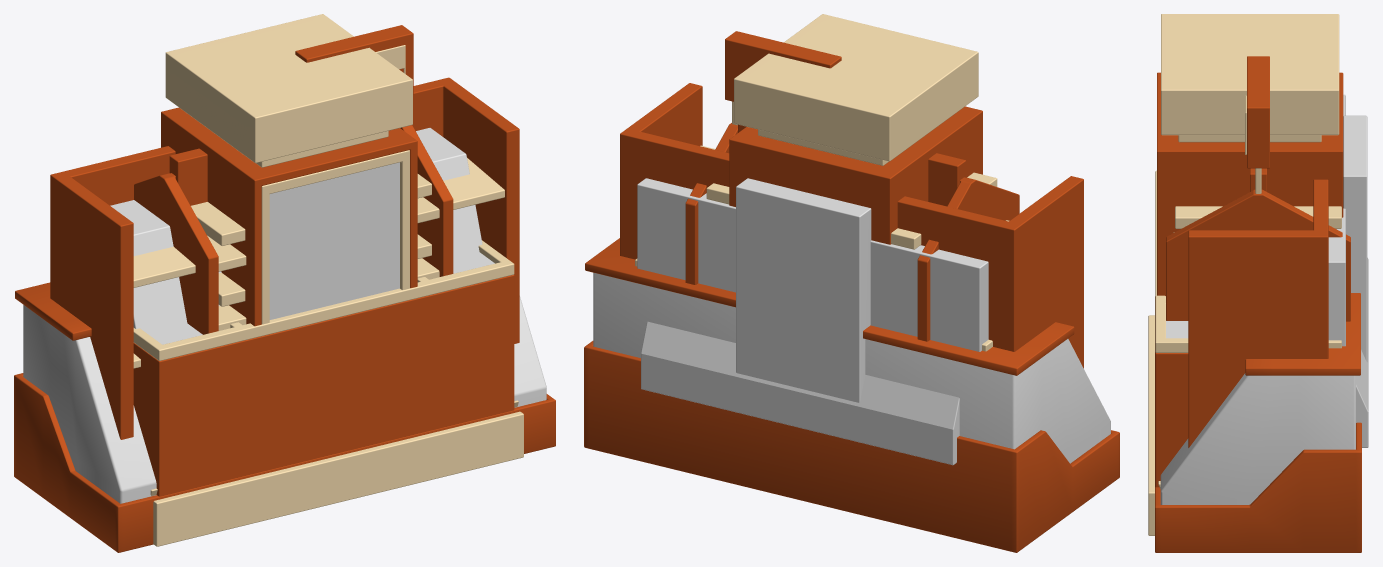
File: props.glb
3 renders of one model, left to right at view 1: azimuth 30°, elevation 25°; view 2: azimuth 150°, elevation 25°; view 3: azimuth 270°, elevation 25°, orthographic.
Parts seen in each view (by area): view 1: case_a, counter, shelf_step, prop11, counter_sm, cashier, case_b, fridge; view 2: prop11, counter, shelf_step, case_a, case_b, cashier, fridge, counter_sm; view 3: counter, prop11, shelf_step, cashier, case_a, case_b, fridge.
Part boxes in pixels (x1,y1,x2,y2): case_a: (133, 240, 523, 546); counter: (161, 14, 425, 478); shelf_step: (50, 77, 519, 439); prop11: (14, 282, 555, 552); counter_sm: (230, 277, 443, 526); cashier: (134, 25, 453, 334); case_b: (110, 128, 518, 495); fridge: (169, 148, 431, 306); prop11: (584, 238, 1119, 552); counter: (729, 14, 982, 402); shelf_step: (620, 83, 1083, 368); case_a: (635, 258, 992, 465); case_b: (637, 178, 988, 351); cashier: (685, 31, 1019, 341); fridge: (706, 124, 997, 249); counter_sm: (721, 366, 878, 428); counter: (1151, 14, 1367, 422); prop11: (1155, 293, 1361, 552); shelf_step: (1188, 179, 1328, 447); cashier: (1166, 56, 1350, 321); case_a: (1148, 170, 1368, 535); case_b: (1158, 94, 1345, 488); fridge: (1175, 168, 1341, 228).
Bounding box in the file's own units: 3.2 × 2.81 × 1.41.
